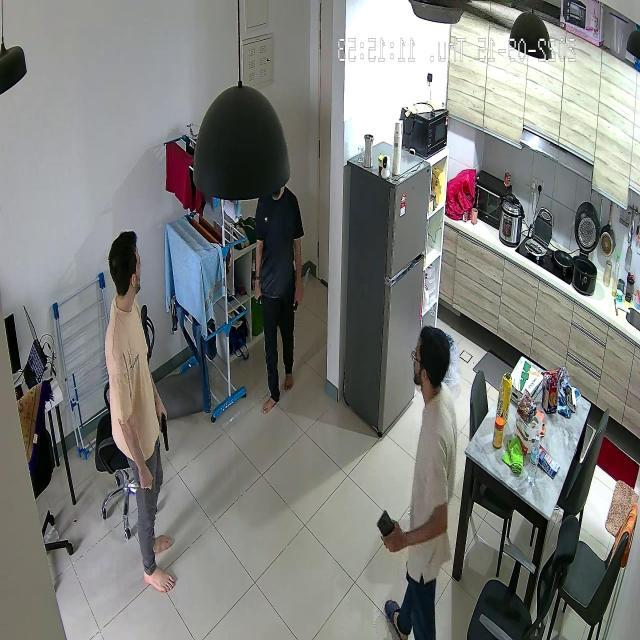Knife: (296, 261, 316, 319)
